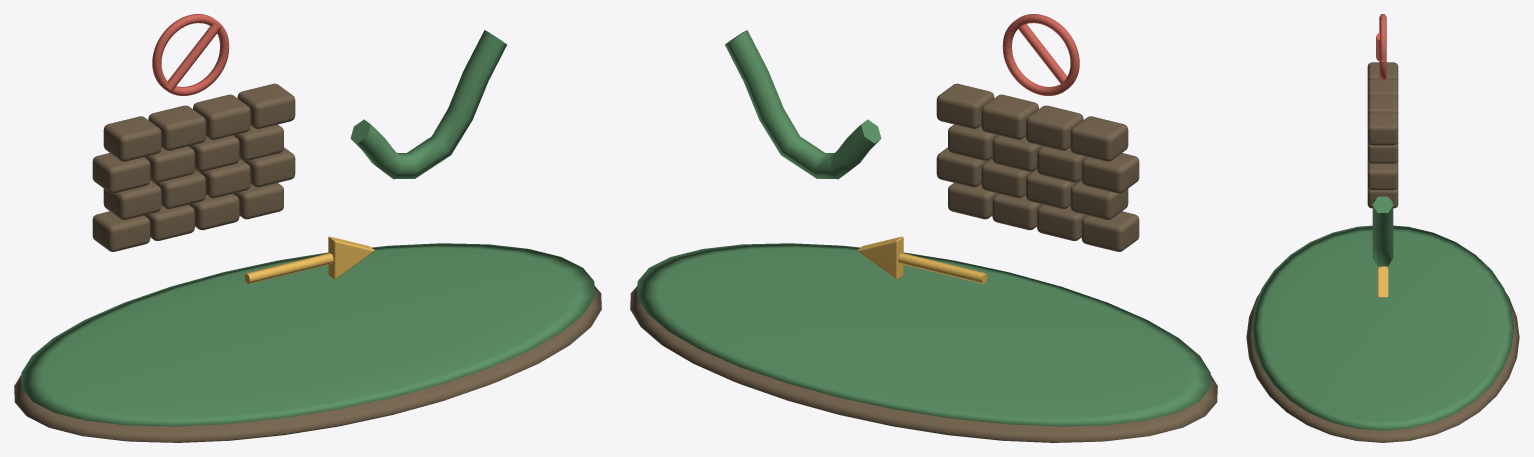
The model's file is complete-first-but-blocks-expectation.glb.
3 views of the same model, side by side, from view 1: azimuth 30°, elevation 25°; view 2: azimuth 150°, elevation 25°; view 3: azimuth 270°, elevation 25° (orthographic). The views are drawn at different scales.
Visible parts, largest first — view 1: complete-first-but-blocks-expectation_surface_01, complete-first-but-blocks-expectation_surface_00, complete-first-but-blocks-expectation_surface_03, complete-first-but-blocks-expectation_surface_02; view 2: complete-first-but-blocks-expectation_surface_01, complete-first-but-blocks-expectation_surface_00, complete-first-but-blocks-expectation_surface_03, complete-first-but-blocks-expectation_surface_02; view 3: complete-first-but-blocks-expectation_surface_01, complete-first-but-blocks-expectation_surface_00, complete-first-but-blocks-expectation_surface_03, complete-first-but-blocks-expectation_surface_02.
Part boxes in pixels (<box>): complete-first-but-blocks-expectation_surface_01: <box>21,30,594,426</box>; complete-first-but-blocks-expectation_surface_00: <box>14,83,601,442</box>; complete-first-but-blocks-expectation_surface_03: <box>152,14,229,95</box>; complete-first-but-blocks-expectation_surface_02: <box>244,236,374,283</box>; complete-first-but-blocks-expectation_surface_01: <box>637,30,1210,426</box>; complete-first-but-blocks-expectation_surface_00: <box>630,83,1217,442</box>; complete-first-but-blocks-expectation_surface_03: <box>1002,14,1079,95</box>; complete-first-but-blocks-expectation_surface_02: <box>857,236,987,283</box>; complete-first-but-blocks-expectation_surface_01: <box>1252,196,1513,430</box>; complete-first-but-blocks-expectation_surface_00: <box>1246,62,1519,442</box>; complete-first-but-blocks-expectation_surface_03: <box>1376,14,1386,80</box>; complete-first-but-blocks-expectation_surface_02: <box>1377,266,1388,297</box>.
Size of the model in its own units: 4.56 by 2.92 by 2.5.
